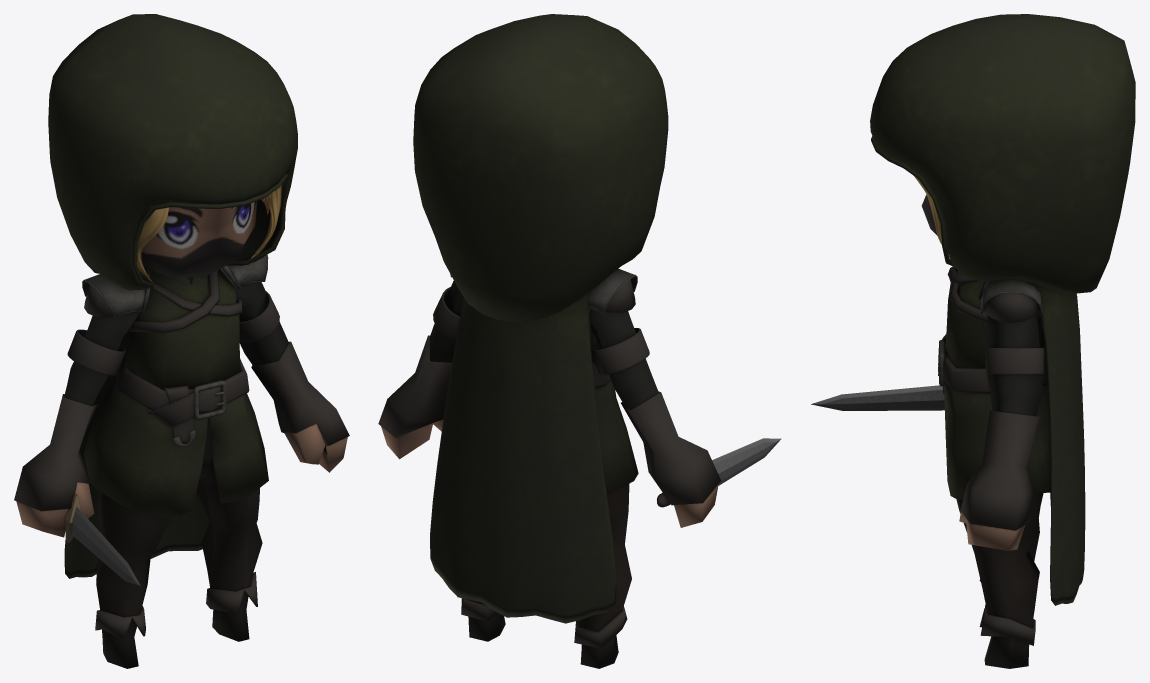
Rendered from Bandit_Kate.fbx.
3 views of the same model, side by side, from view 1: azimuth 30°, elevation 25°; view 2: azimuth 150°, elevation 25°; view 3: azimuth 270°, elevation 25° (orthographic). The views are drawn at different scales.
Parts seen in each view (by area): view 1: Bandit_2.002; view 2: Bandit_2.002; view 3: Bandit_2.002.
Part boxes in pixels (x1,y1,x2,y2): Bandit_2.002: (14, 14, 349, 668); Bandit_2.002: (378, 14, 781, 668); Bandit_2.002: (811, 14, 1135, 668).
Size of the model in its own units: 103 by 188 by 90.25.
